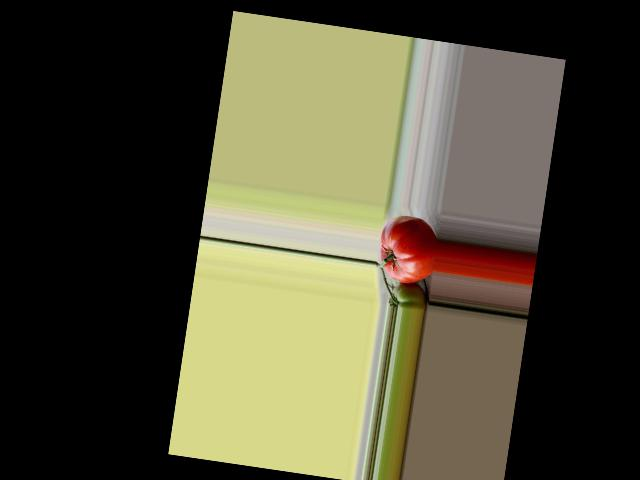tomato: (375, 212, 441, 286)
